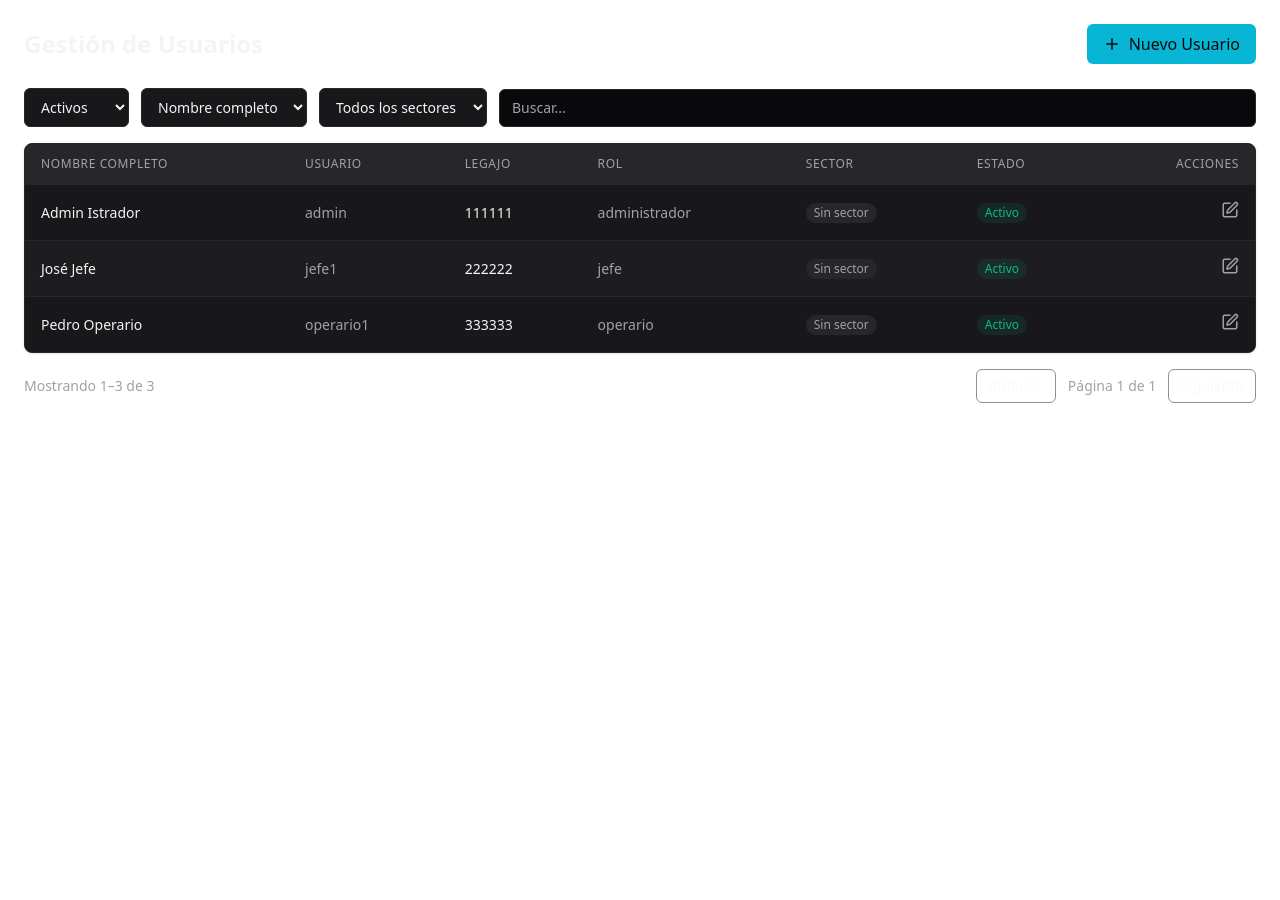
UsuariosPage › confirming the delete dialog sends the DELETE request and closes both dialogs
Expected: the text "Admin Istrador" is shown, [25,184,289,240]
Click the button titled "Editar" in the row of "Admin Istrador": (1230, 210) [1221,201,1239,219]
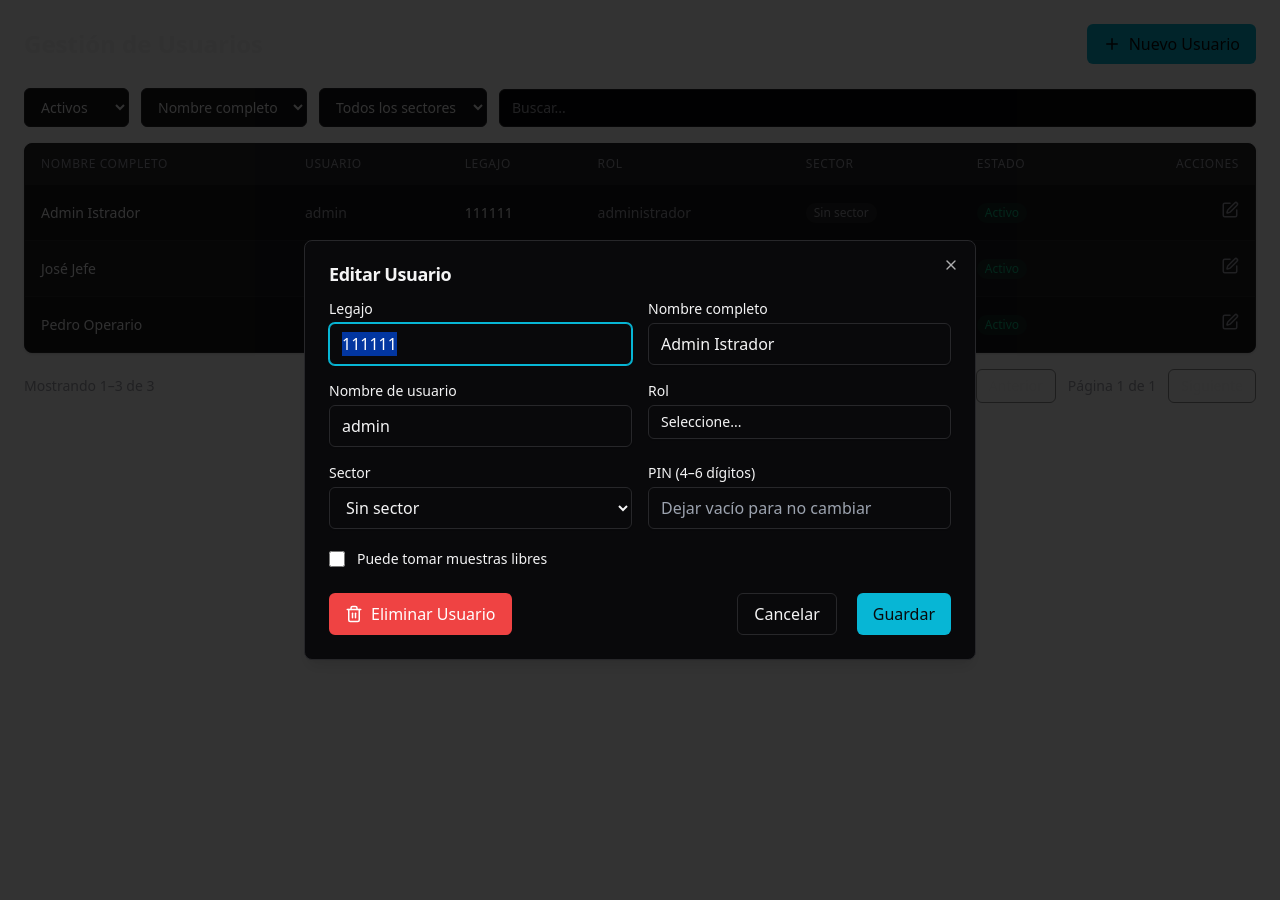
Click the button "Eliminar Usuario": (420, 614) [329,593,512,635]
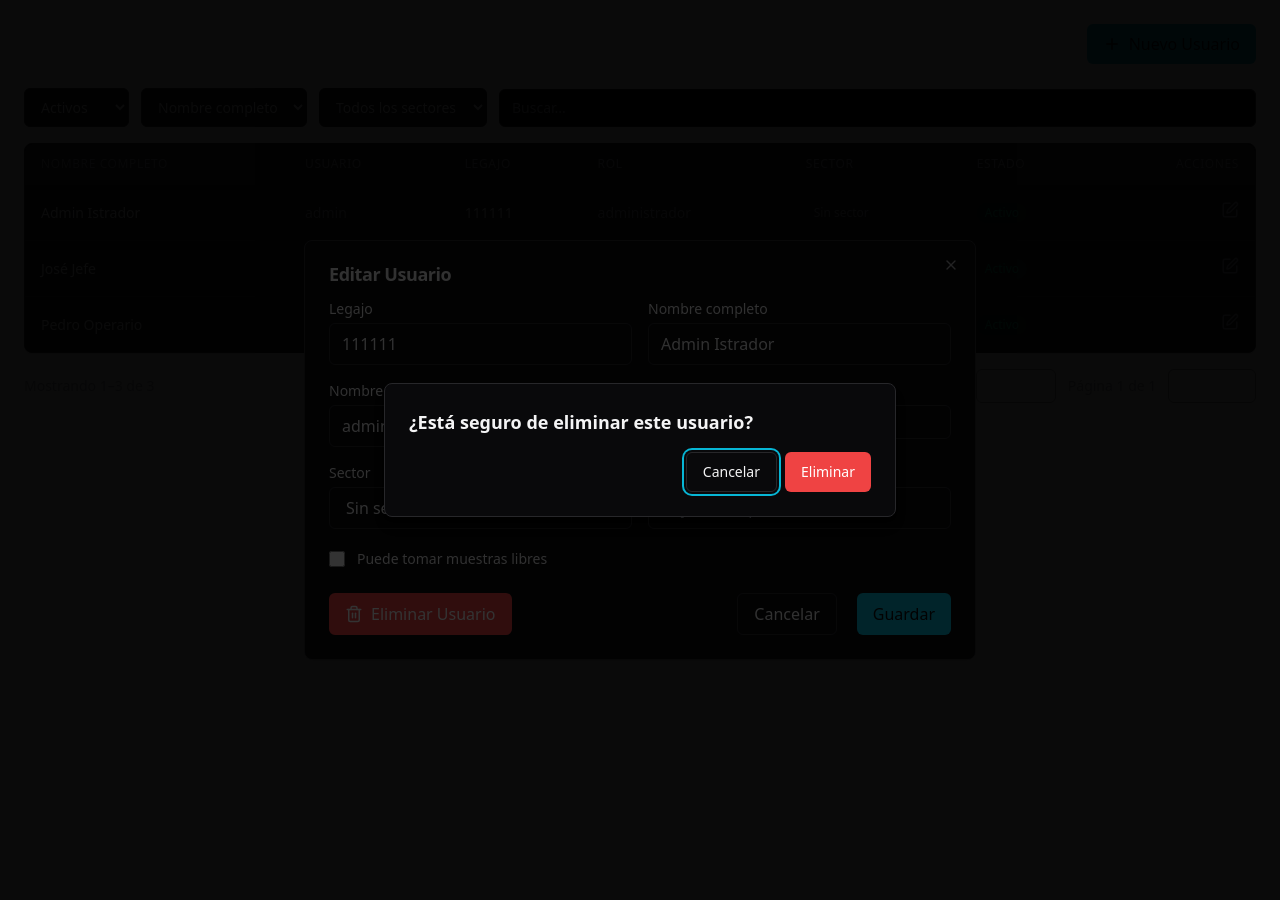
Click the button "Eliminar": (828, 472) [785,452,871,492]
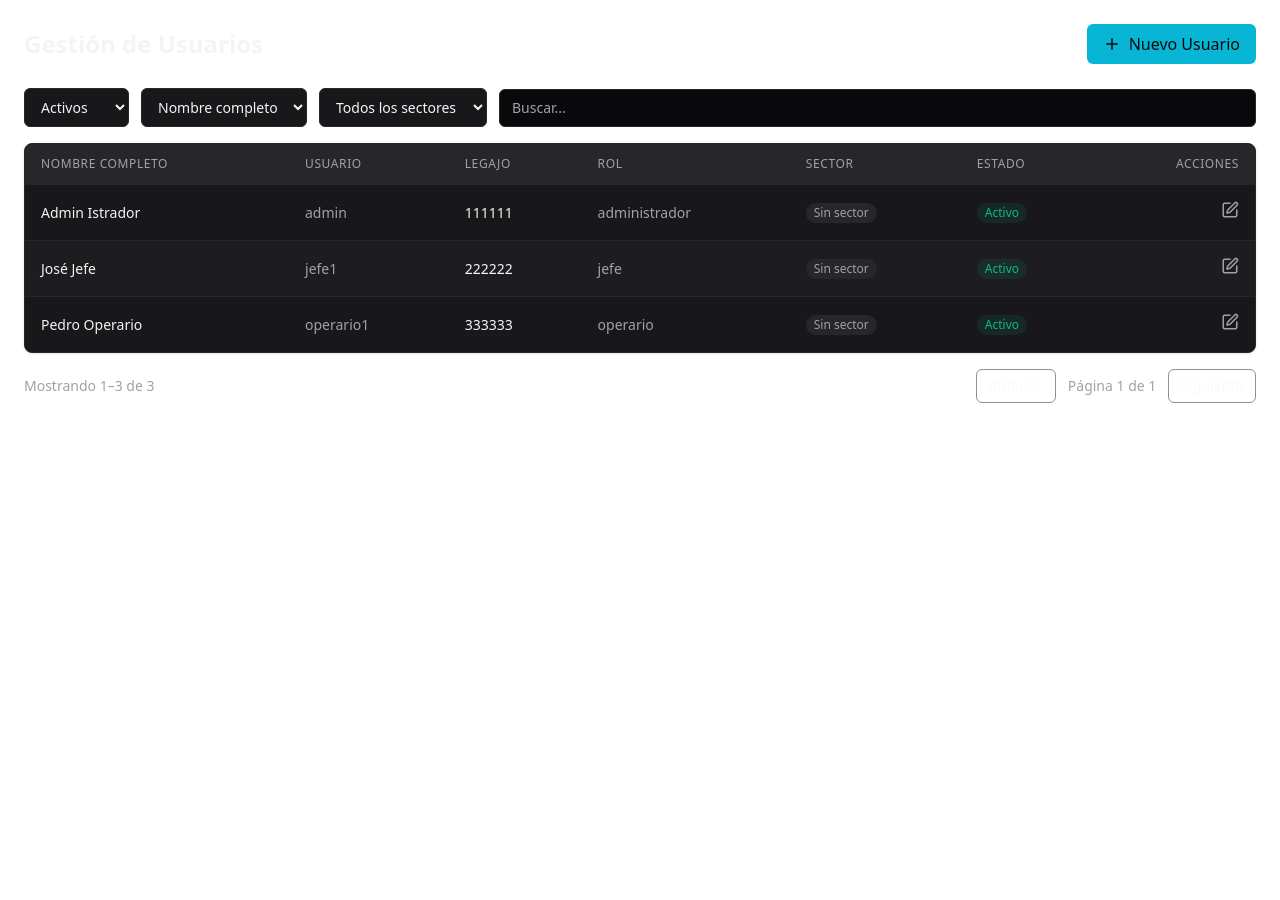
Expected: the dialog is gone
Expected: the heading "Editar Usuario" is gone
